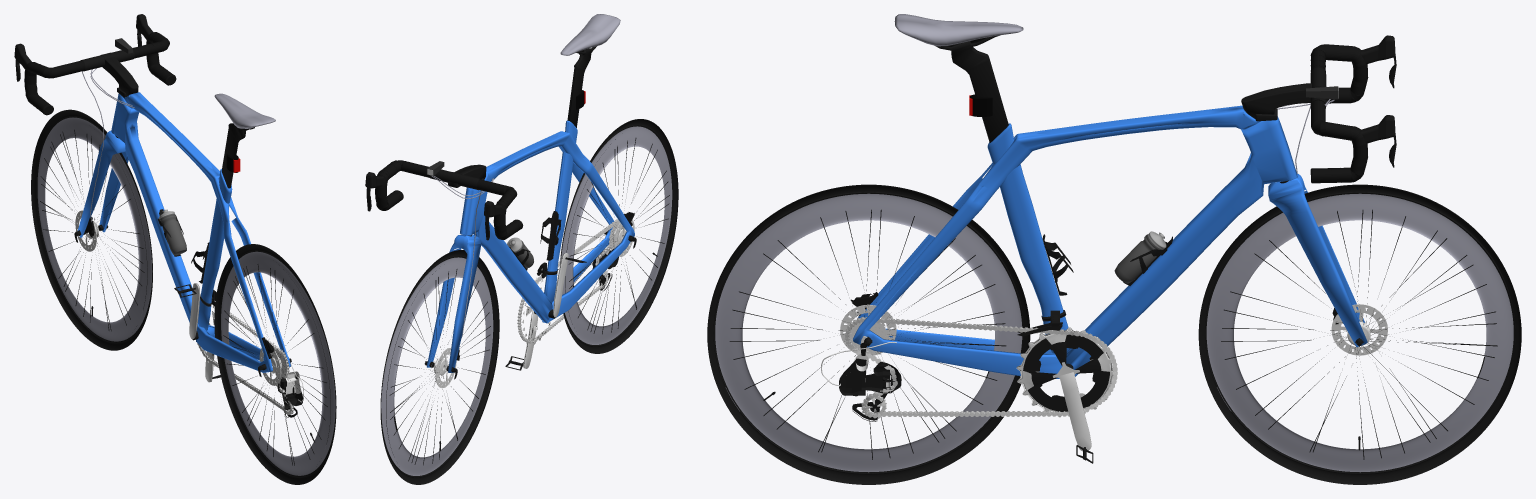
The model's file is roadbike.glb.
3 renders of one model, left to right at view 1: azimuth 30°, elevation 25°; view 2: azimuth 150°, elevation 25°; view 3: azimuth 270°, elevation 25°, orthographic. The views are drawn at different scales.
Visible parts, largest first — view 1: Circle.004, Circle, Cube, Cylinder.001, Cube.002, Cube.001, Cylinder.023, Cylinder.075, Cube.004, Circle.003, Cylinder.041, Cylinder.045 (+4 smaller); view 2: Circle.004, Circle, Cube, Cylinder.001, Cube.002, Cube.001, Cylinder.075, Cylinder.023, Cube.004, Circle.003, Cube.003, Cube.008 (+7 smaller); view 3: Circle.004, Circle, Cube, Cube.002, Cube.001, Cylinder.001, Cylinder.039, Circle.003, Cylinder.075, Cylinder.023, Cube.004, Cube.003 (+5 smaller).
Part boxes in pixels (box(x1,y1,x2,y2)): Circle.004: box(31, 109, 152, 350); Circle: box(214, 244, 336, 484); Cube: box(111, 92, 290, 372); Cylinder.001: box(24, 32, 176, 115); Cube.002: box(78, 130, 128, 237); Cube.001: box(198, 169, 232, 330); Cylinder.023: box(223, 264, 327, 465); Cylinder.075: box(40, 129, 144, 331); Cube.004: box(214, 93, 275, 128); Circle.003: box(197, 304, 293, 414); Cylinder.041: box(159, 209, 186, 255); Cylinder.045: box(276, 371, 303, 417); Circle.004: box(380, 250, 499, 484); Circle: box(560, 119, 678, 353); Cube: box(460, 131, 634, 323); Cylinder.001: box(375, 160, 523, 239); Cube.002: box(426, 234, 480, 372); Cube.001: box(544, 120, 577, 302); Cylinder.075: box(389, 269, 490, 465); Cylinder.023: box(568, 138, 669, 334); Cube.004: box(560, 14, 620, 55); Circle.003: box(517, 219, 619, 343); Cube.003: box(567, 46, 596, 127); Cube.008: box(540, 211, 561, 260); Circle.004: box(1198, 184, 1521, 484); Circle: box(707, 184, 1030, 484); Cube: box(853, 105, 1296, 378); Cube.002: box(1268, 173, 1367, 347); Cube.001: box(987, 123, 1069, 353); Cylinder.001: box(1310, 44, 1368, 183); Cylinder.039: box(1016, 327, 1113, 417); Circle.003: box(844, 317, 1117, 418); Cylinder.075: box(1221, 209, 1497, 459); Cylinder.023: box(729, 209, 1006, 459); Cube.004: box(894, 14, 1023, 46); Cube.003: box(935, 35, 1008, 142).
Size of the model in its own units: 0.826 by 2.04 by 3.25.
